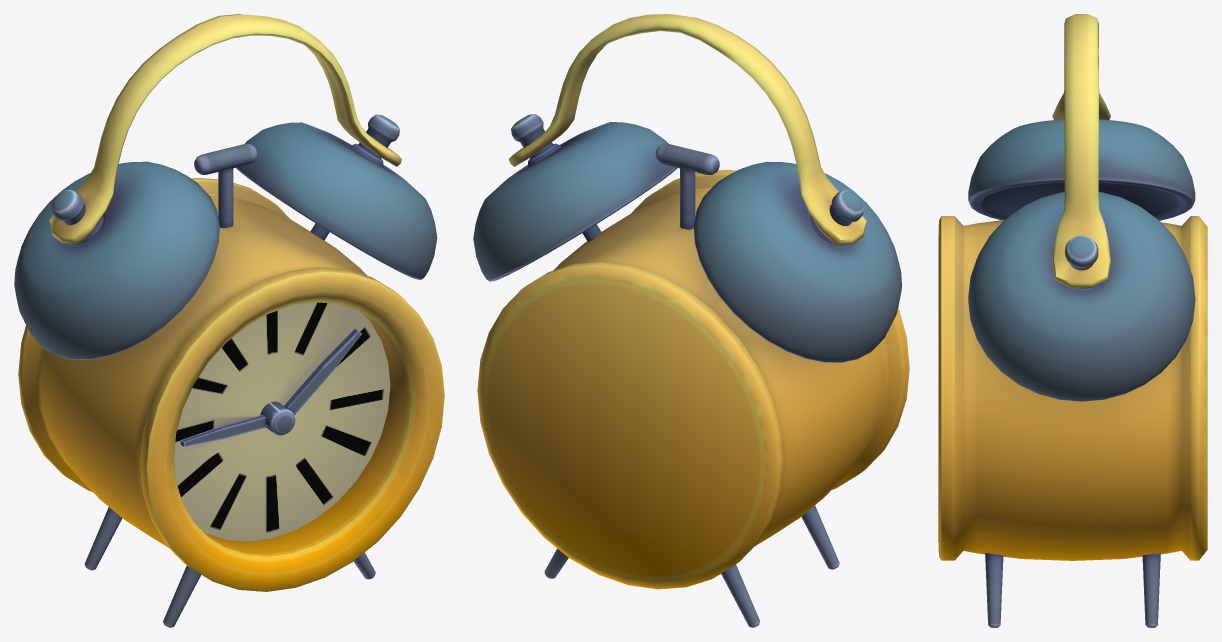
File: Alarm_Clock.fbx
3 renders of one model, left to right at view 1: azimuth 30°, elevation 25°; view 2: azimuth 150°, elevation 25°; view 3: azimuth 270°, elevation 25°, orthographic.
Parts seen in each view (by area): view 1: default; view 2: default; view 3: default.
Boxes of the visible parts, bbox=[...] form: default: bbox=[14, 14, 444, 627]; default: bbox=[473, 14, 909, 627]; default: bbox=[938, 14, 1207, 627].
Bounding box in the file's own units: 261 × 156 × 354.
1 material, 1 textured.
